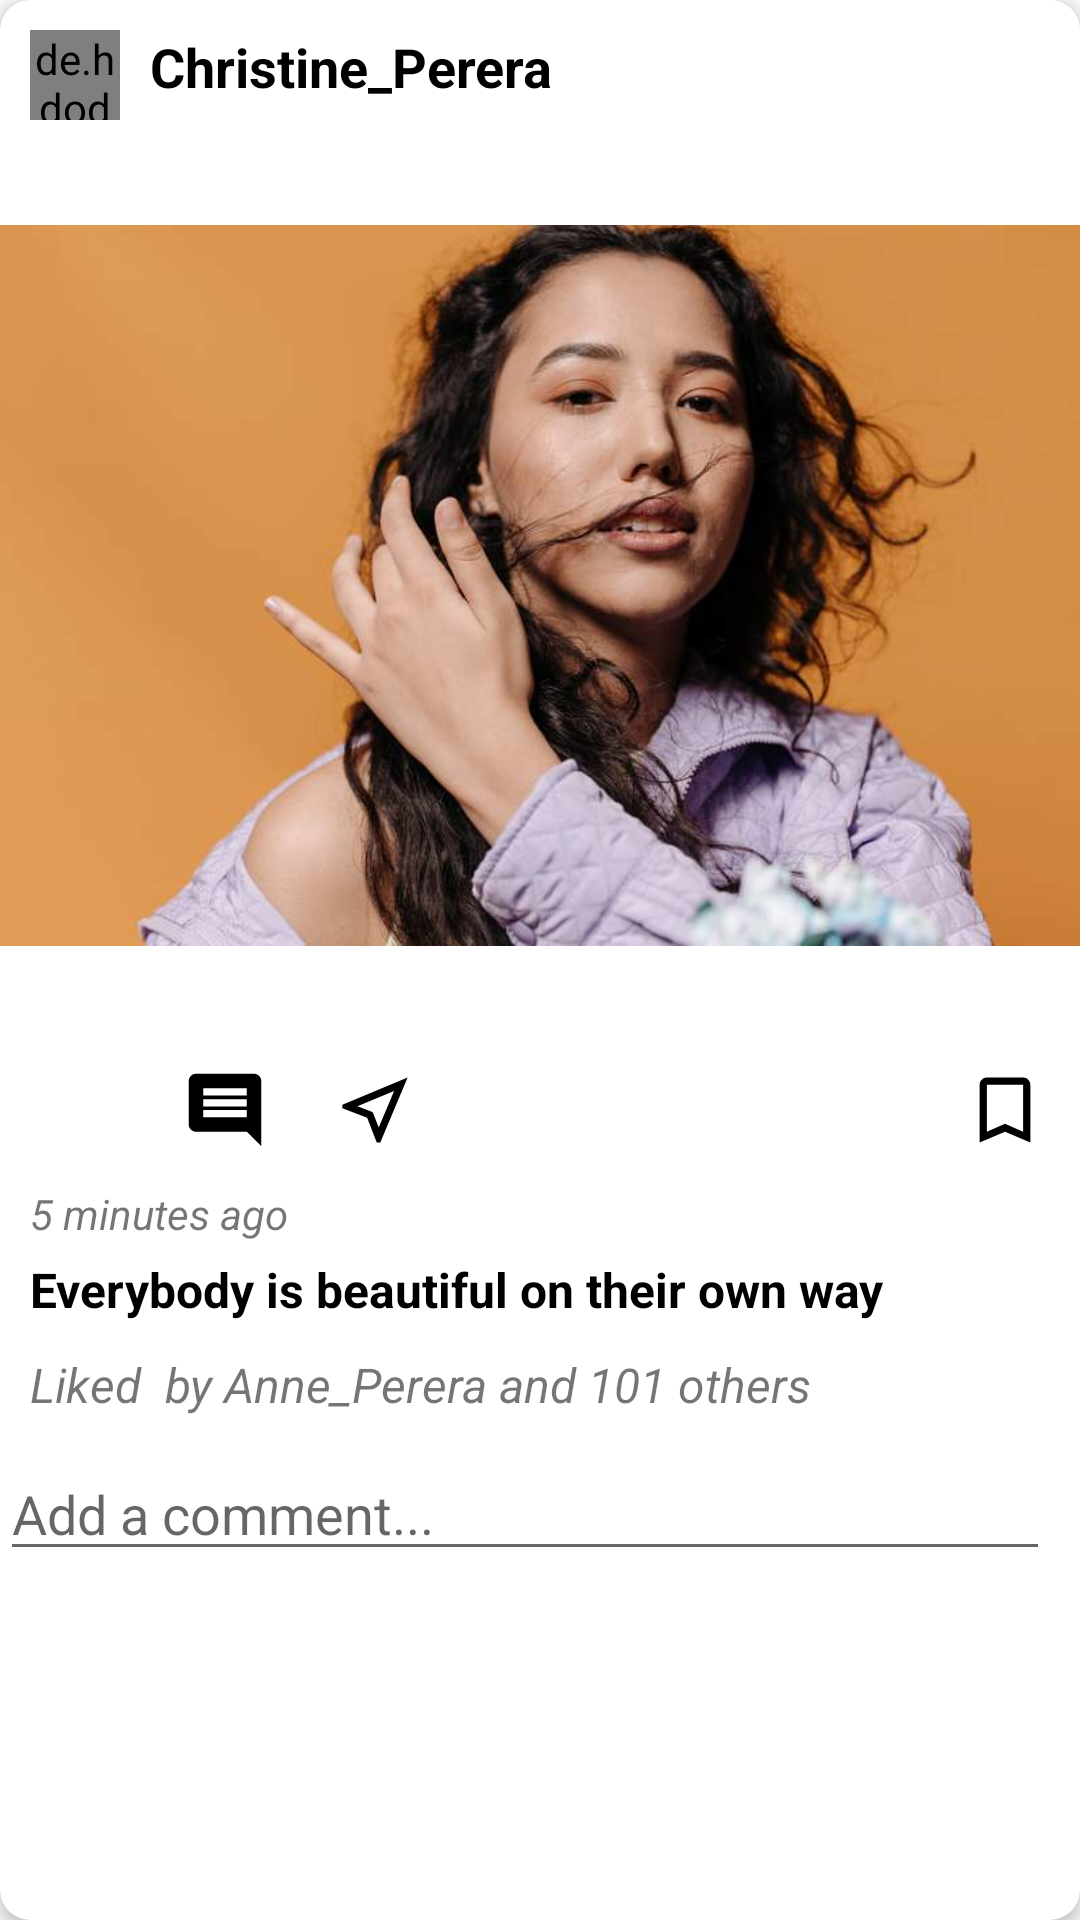

Where icons sit on this 1080x1920 app screen, as (x1, y1, x2, y2):
collection: (979, 1077, 1031, 1143)
comment: (188, 1073, 262, 1146)
near me: (342, 1077, 408, 1143)
